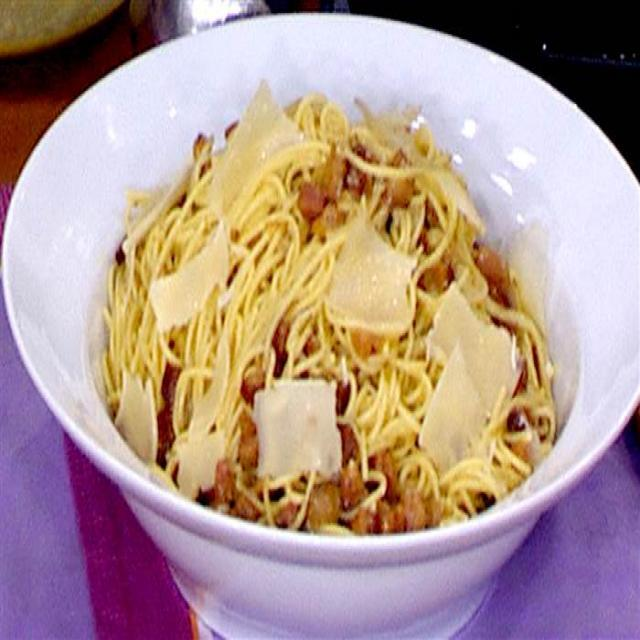Pasta with carbonara sauce: (117, 73, 563, 569)
